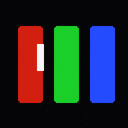4 line_v: (37, 44, 43, 70)
